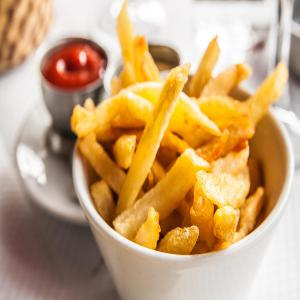fries: (76, 96, 300, 255)
